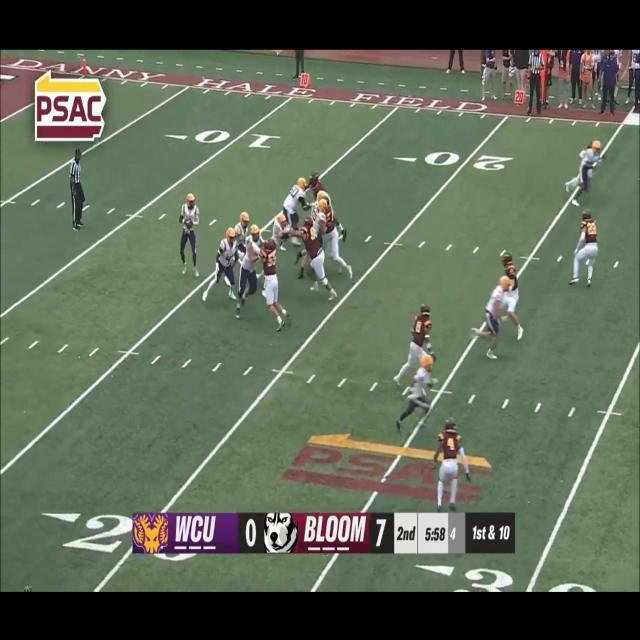football: (182, 216, 196, 232)
